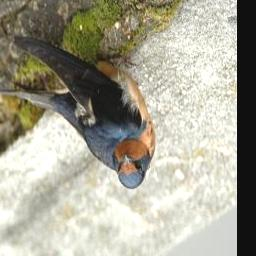Swallow: (0, 37, 156, 192)
